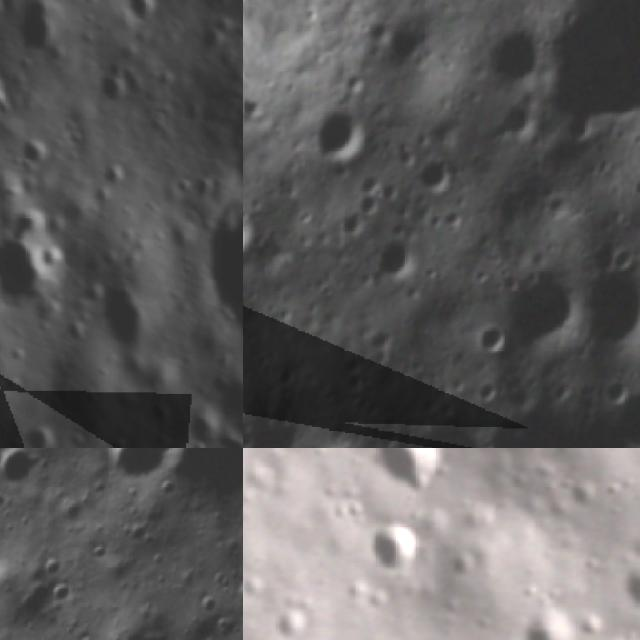crater: (511, 0, 640, 160), (490, 262, 596, 371), (450, 391, 640, 448), (571, 260, 640, 362), (142, 448, 243, 516), (198, 199, 243, 342), (80, 448, 197, 500), (301, 96, 380, 173), (482, 18, 556, 96), (0, 565, 68, 639), (92, 274, 152, 354), (374, 8, 440, 77), (89, 599, 193, 640), (380, 448, 451, 505), (400, 409, 499, 448), (0, 232, 51, 307), (369, 230, 428, 290), (465, 314, 521, 366), (414, 152, 464, 203), (11, 4, 60, 56), (498, 98, 546, 150), (376, 524, 424, 574), (0, 448, 46, 500), (607, 376, 640, 448), (218, 98, 243, 192), (94, 62, 138, 111), (515, 607, 576, 640), (601, 232, 640, 281), (173, 408, 220, 448), (243, 197, 267, 264), (272, 606, 310, 640), (118, 0, 164, 28), (14, 137, 46, 172), (619, 558, 640, 610), (448, 546, 480, 578), (316, 433, 378, 448), (226, 570, 243, 616), (29, 423, 58, 448)
